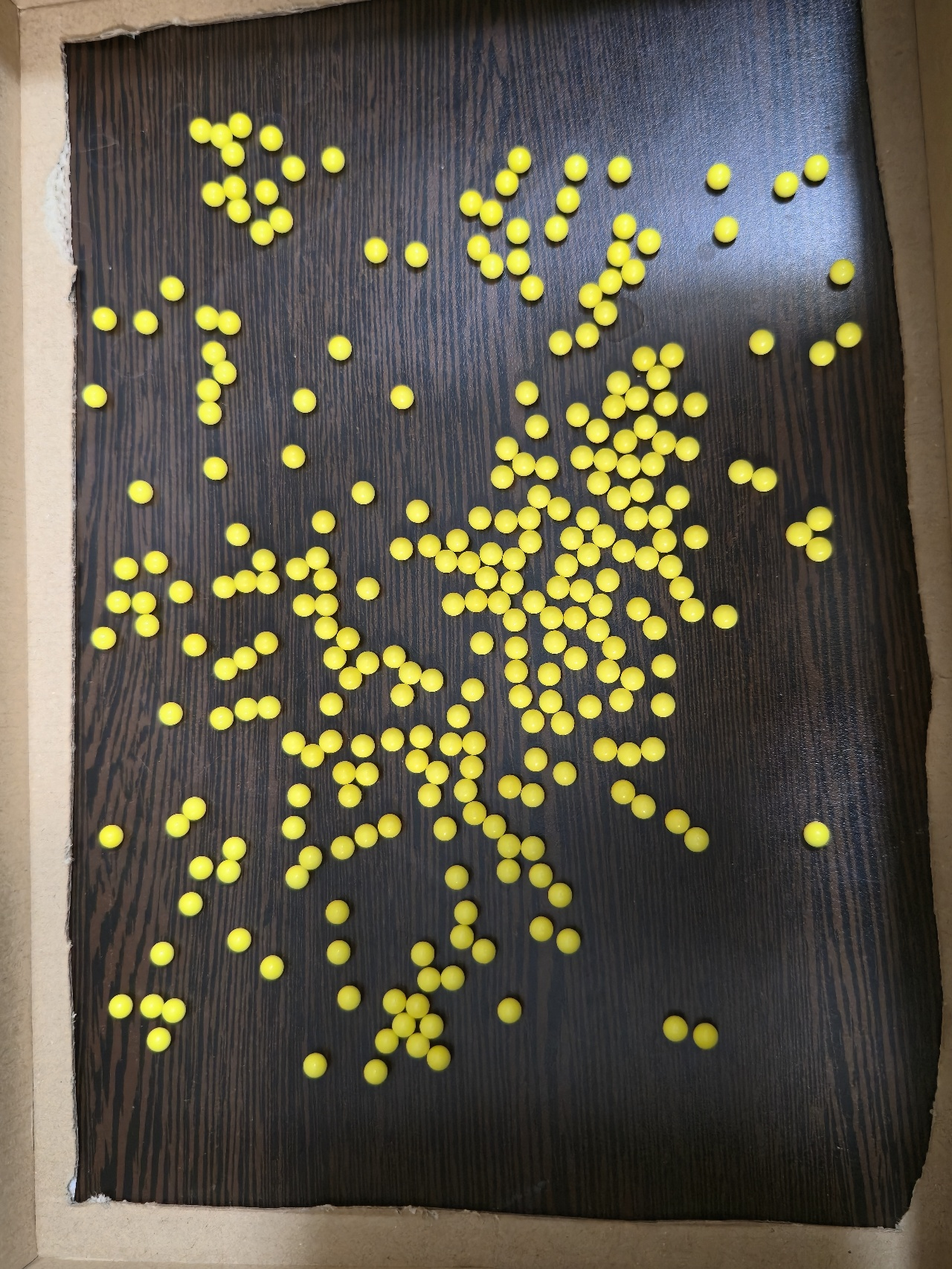yellow_bead: (195, 126, 239, 161), (208, 347, 230, 378), (202, 312, 234, 329), (812, 543, 826, 556), (815, 347, 829, 360), (627, 264, 640, 278), (720, 223, 733, 237), (810, 161, 823, 175), (165, 1005, 180, 1017), (146, 1000, 161, 1012), (486, 258, 498, 273), (256, 225, 268, 240), (550, 221, 562, 236), (562, 192, 574, 207), (287, 161, 299, 176), (238, 576, 254, 587), (810, 828, 823, 841), (599, 306, 611, 320), (512, 255, 524, 269), (512, 224, 524, 238), (274, 213, 286, 227), (605, 274, 616, 289), (327, 152, 338, 167), (260, 576, 273, 588), (640, 553, 653, 565), (813, 513, 826, 525), (635, 484, 648, 496), (758, 474, 771, 486), (646, 458, 659, 470), (599, 454, 611, 467), (657, 437, 670, 449), (652, 371, 664, 384), (756, 336, 768, 349), (166, 282, 178, 295), (836, 266, 849, 278), (370, 244, 382, 257), (643, 235, 655, 248), (233, 204, 245, 217), (780, 178, 792, 191), (204, 405, 215, 419), (202, 384, 213, 398), (527, 281, 538, 295), (473, 241, 484, 255), (208, 187, 219, 201), (713, 170, 724, 184), (153, 1034, 165, 1046), (156, 948, 168, 960), (187, 803, 199, 815), (460, 785, 472, 797), (584, 701, 596, 713), (657, 699, 669, 711), (329, 652, 341, 664), (608, 642, 620, 654), (140, 619, 152, 631), (719, 611, 731, 623), (553, 582, 565, 594), (506, 576, 518, 588), (664, 561, 676, 573), (311, 553, 323, 565), (659, 535, 671, 547), (793, 528, 805, 540), (654, 511, 666, 523), (672, 492, 684, 504), (613, 492, 625, 504), (735, 466, 747, 478), (541, 462, 553, 474), (623, 460, 635, 472), (287, 451, 299, 463), (640, 421, 652, 433), (531, 421, 543, 433), (608, 400, 620, 412), (689, 399, 701, 411), (660, 398, 672, 410), (631, 393, 643, 405), (521, 387, 533, 399), (638, 353, 650, 365), (666, 349, 678, 361), (334, 342, 346, 354), (843, 329, 855, 341), (139, 316, 151, 328), (98, 313, 110, 325), (171, 820, 184, 831), (241, 704, 254, 715), (575, 586, 588, 597), (630, 513, 643, 524), (613, 377, 624, 390), (555, 336, 566, 349), (585, 289, 596, 302), (486, 205, 497, 218), (614, 163, 625, 176), (219, 664, 233, 674), (219, 582, 233, 592), (613, 247, 623, 261), (309, 1060, 320, 1072), (115, 1000, 126, 1012), (423, 974, 434, 986), (266, 962, 277, 974), (417, 948, 428, 960), (460, 907, 471, 919), (184, 899, 196, 910), (292, 871, 303, 883), (503, 865, 514, 877), (228, 844, 240, 855), (527, 843, 538, 855), (691, 834, 702, 846), (440, 823, 451, 835), (637, 802, 649, 813), (527, 789, 538, 801), (424, 789, 435, 801), (361, 769, 373, 780), (559, 768, 570, 780), (431, 767, 443, 778), (623, 749, 635, 760), (647, 744, 659, 755), (216, 713, 228, 724), (262, 702, 274, 713), (425, 675, 437, 686), (626, 673, 638, 684), (602, 666, 614, 677), (658, 661, 670, 672), (549, 637, 561, 648), (649, 623, 661, 634), (686, 605, 698, 616), (299, 600, 311, 611), (676, 583, 688, 594), (602, 575, 614, 586), (566, 533, 578, 544), (690, 532, 702, 543), (598, 531, 610, 542), (582, 513, 594, 524), (523, 513, 535, 524), (135, 486, 146, 498), (593, 477, 604, 489), (208, 463, 220, 474), (518, 458, 530, 469), (576, 452, 588, 463), (681, 443, 693, 454), (620, 435, 631, 447), (396, 392, 408, 403), (88, 391, 100, 402), (582, 329, 593, 341), (620, 220, 631, 232), (570, 164, 582, 175), (299, 394, 309, 407), (412, 1041, 423, 1052), (234, 935, 245, 946), (536, 924, 547, 935), (451, 873, 462, 884), (305, 853, 316, 864), (489, 821, 500, 832), (466, 762, 477, 773), (530, 754, 541, 765), (446, 739, 457, 750), (468, 738, 479, 749), (527, 716, 538, 727), (545, 696, 556, 707), (616, 695, 627, 706), (515, 691, 526, 702), (396, 690, 407, 701), (362, 658, 373, 669), (239, 653, 250, 664), (476, 638, 487, 649), (509, 615, 520, 626), (570, 613, 581, 624), (546, 612, 557, 623), (595, 600, 606, 611), (529, 597, 540, 608), (494, 597, 505, 608), (112, 597, 123, 608), (481, 572, 492, 583), (441, 556, 452, 567), (509, 554, 520, 565), (525, 536, 536, 547), (501, 516, 512, 527), (533, 491, 544, 502), (497, 472, 508, 483), (501, 443, 512, 454), (592, 425, 603, 436), (669, 1023, 679, 1035), (344, 992, 354, 1004), (478, 945, 488, 957), (222, 867, 234, 877), (195, 863, 207, 873), (105, 832, 117, 842), (288, 823, 300, 833), (672, 817, 684, 827), (617, 788, 629, 798), (599, 745, 611, 755), (164, 709, 176, 719), (570, 654, 582, 664), (592, 626, 604, 636), (448, 600, 460, 610), (120, 564, 132, 574), (149, 558, 161, 568), (618, 546, 630, 556), (231, 530, 243, 540), (553, 504, 565, 514), (573, 409, 583, 421), (260, 189, 272, 199), (370, 1067, 380, 1078), (426, 1021, 436, 1032), (447, 973, 457, 984), (333, 948, 344, 958), (563, 936, 573, 947), (332, 907, 342, 918), (555, 890, 565, 901), (536, 870, 546, 881), (337, 843, 348, 853), (504, 841, 514, 852), (361, 831, 372, 841), (384, 821, 394, 832), (469, 809, 480, 819), (293, 791, 304, 801), (412, 756, 422, 767), (357, 741, 368, 751), (416, 731, 426, 742), (557, 719, 568, 729), (453, 711, 463, 722), (467, 685, 478, 695), (345, 674, 356, 684), (544, 669, 554, 680), (405, 668, 416, 678), (511, 666, 521, 677), (188, 640, 199, 650), (260, 639, 271, 649), (342, 634, 353, 644), (98, 633, 109, 643), (321, 623, 332, 633), (633, 605, 644, 615), (320, 600, 331, 610), (138, 598, 149, 608), (362, 584, 373, 594), (561, 561, 572, 571), (463, 558, 474, 568), (583, 550, 594, 560), (486, 549, 497, 559), (396, 544, 407, 554), (424, 541, 435, 551), (452, 536, 463, 546), (475, 513, 485, 524), (358, 488, 369, 498), (504, 1005, 513, 1017), (456, 931, 465, 943), (344, 792, 356, 801), (470, 597, 482, 606), (505, 783, 515, 793), (288, 739, 298, 749), (325, 737, 335, 747), (387, 735, 397, 745), (326, 700, 336, 710), (389, 652, 399, 662), (511, 643, 521, 653), (174, 587, 184, 597), (258, 556, 268, 566), (412, 507, 422, 517), (307, 751, 316, 762), (320, 574, 329, 585), (292, 565, 303, 574), (318, 518, 329, 527), (411, 252, 422, 261), (381, 1037, 389, 1047), (466, 199, 476, 207), (389, 996, 395, 1008), (338, 771, 347, 779), (229, 181, 237, 190), (433, 1057, 441, 1064), (514, 152, 521, 160), (266, 134, 271, 145), (398, 1021, 403, 1031), (501, 179, 509, 184), (412, 1002, 416, 1010), (234, 123, 240, 127), (704, 1035, 706, 1036)
